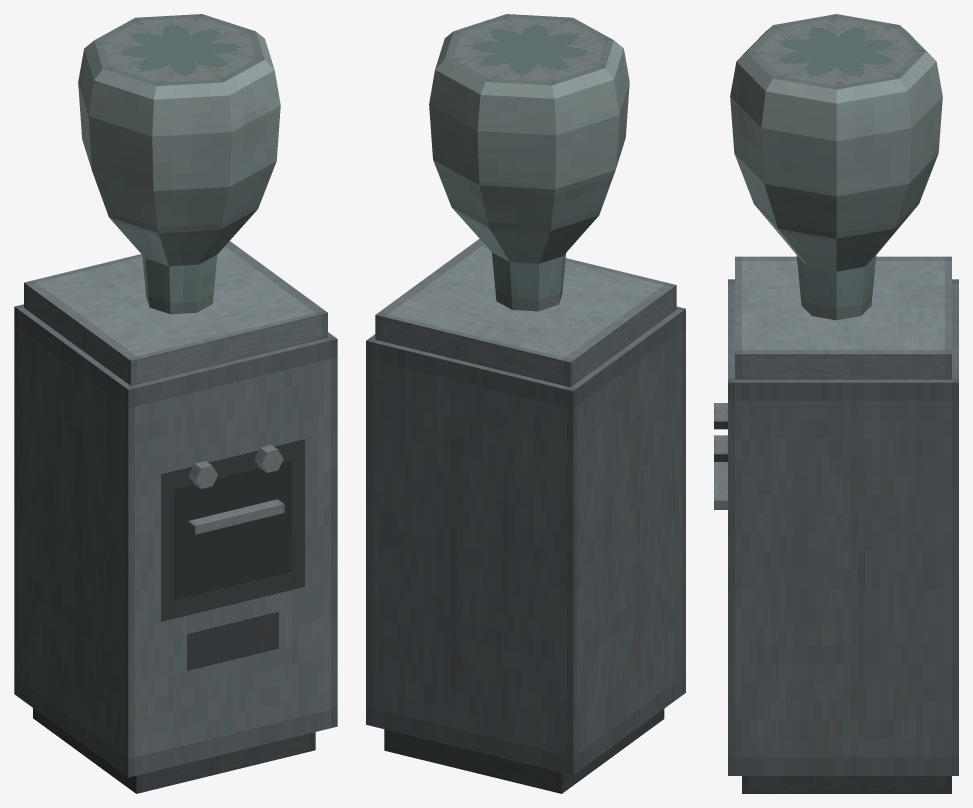
Rendered from water_cooler.glb.
3 views of the same model, side by side, from view 1: azimuth 30°, elevation 25°; view 2: azimuth 150°, elevation 25°; view 3: azimuth 270°, elevation 25° (orthographic). The views are drawn at different scales.
Parts seen in each view (by area): view 1: core_water_cooler; view 2: core_water_cooler; view 3: core_water_cooler.
Boxes of the visible parts, bbox=[...] form: core_water_cooler: bbox=[14, 14, 337, 793]; core_water_cooler: bbox=[366, 14, 685, 793]; core_water_cooler: bbox=[714, 14, 958, 793].
Bounding box in the file's own units: 0.35 × 1.1 × 0.35.
Materials: 1 (1 with a texture image).
